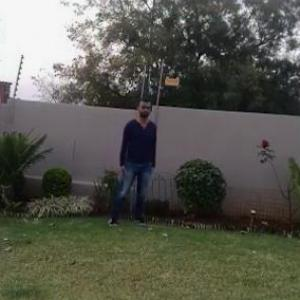follow: (112, 97, 156, 236)
